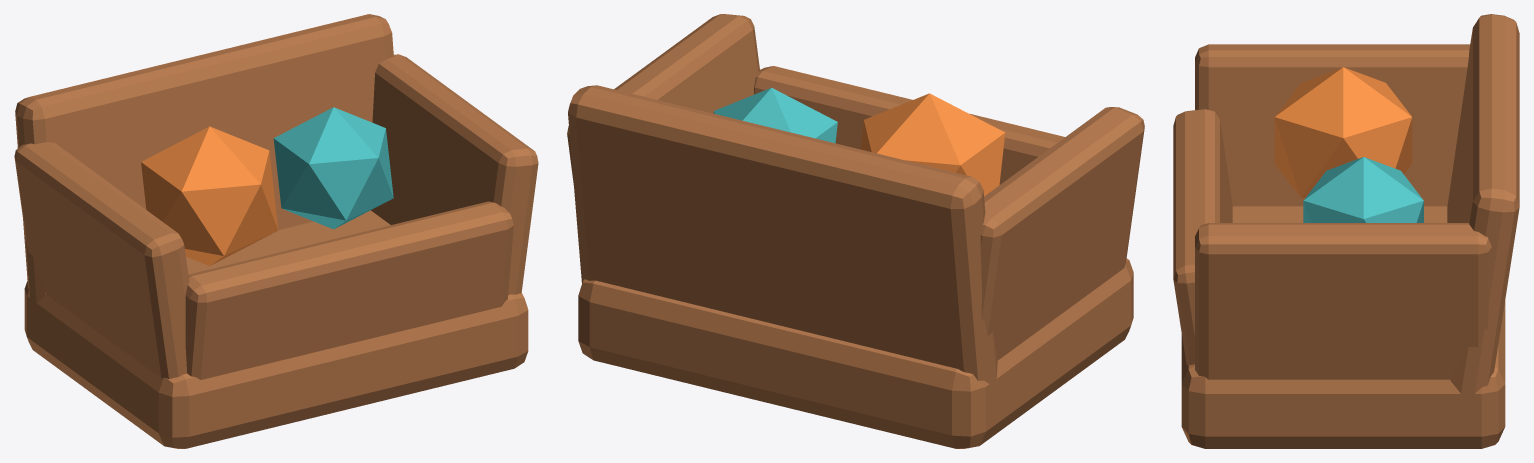
File: ToyBasket.fbx
3 renders of one model, left to right at view 1: azimuth 30°, elevation 25°; view 2: azimuth 150°, elevation 25°; view 3: azimuth 270°, elevation 25°, orthographic. The views are drawn at different scales.
Parts seen in each view (by area): view 1: Basket_Base, Basket_Front, Basket_Back, Basket_Left, Basket_Right, Basket_Ball_Orange, Basket_Ball_Teal; view 2: Basket_Back, Basket_Base, Basket_Left, Basket_Right, Basket_Ball_Orange, Basket_Front, Basket_Ball_Teal; view 3: Basket_Right, Basket_Base, Basket_Left, Basket_Back, Basket_Ball_Orange, Basket_Front, Basket_Ball_Teal.
Part boxes in pixels (bbox=[...]): Basket_Base: bbox=[24, 210, 528, 448]; Basket_Front: bbox=[185, 201, 513, 379]; Basket_Back: bbox=[15, 14, 393, 302]; Basket_Left: bbox=[14, 142, 189, 379]; Basket_Right: bbox=[371, 54, 538, 294]; Basket_Ball_Orange: bbox=[141, 126, 278, 266]; Basket_Ball_Teal: bbox=[273, 107, 393, 229]; Basket_Back: bbox=[568, 85, 997, 389]; Basket_Base: bbox=[578, 258, 1133, 448]; Basket_Left: bbox=[980, 107, 1144, 360]; Basket_Right: bbox=[567, 14, 759, 185]; Basket_Ball_Orange: bbox=[860, 93, 1005, 196]; Basket_Front: bbox=[754, 66, 1064, 184]; Basket_Ball_Teal: bbox=[713, 87, 837, 143]; Basket_Right: bbox=[1195, 223, 1491, 379]; Basket_Base: bbox=[1181, 206, 1505, 448]; Basket_Left: bbox=[1195, 44, 1470, 206]; Basket_Back: bbox=[1447, 14, 1519, 399]; Basket_Ball_Orange: bbox=[1274, 67, 1412, 199]; Basket_Front: bbox=[1173, 109, 1232, 365]; Basket_Ball_Teal: bbox=[1303, 157, 1423, 222].
Size of the model in its own units: 70.55 by 43 by 51.34.
